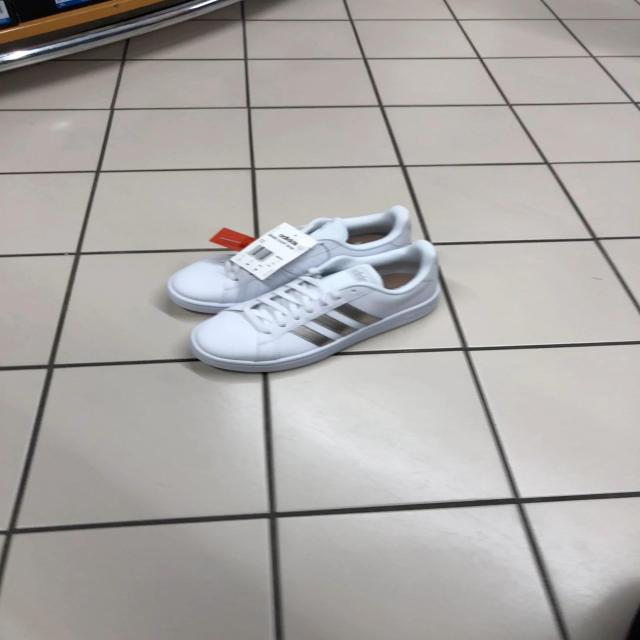shoe: (179, 242, 441, 376), (168, 208, 409, 312)
